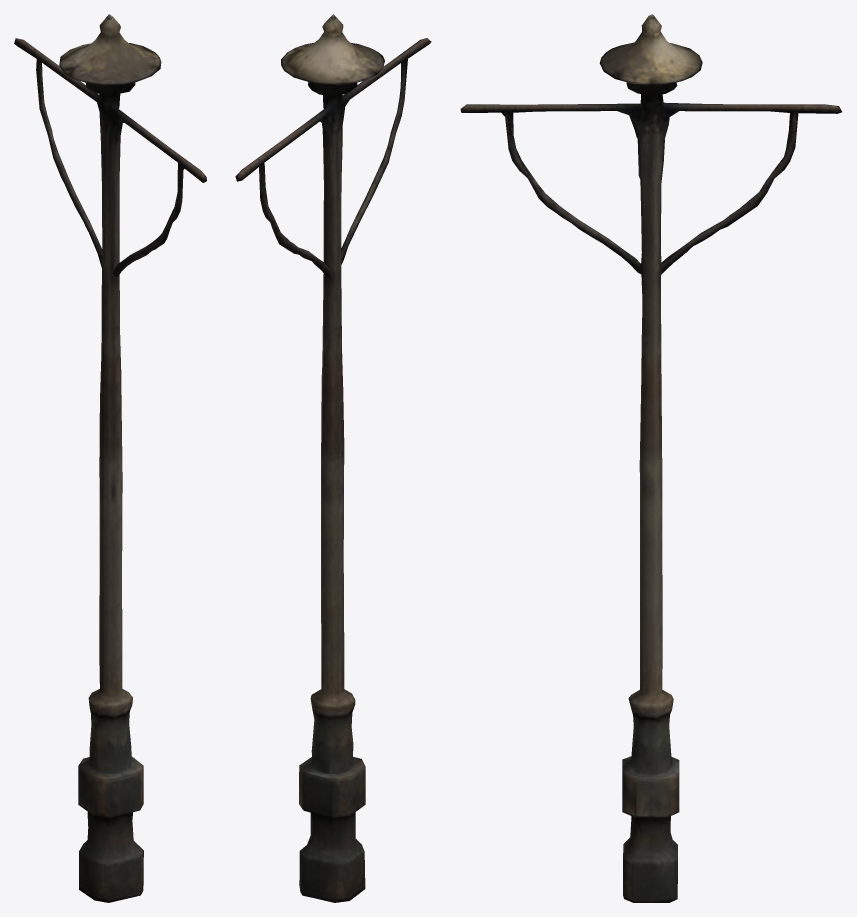
File: streetlamp.glb
3 views of the same model, side by side, from view 1: azimuth 30°, elevation 25°; view 2: azimuth 150°, elevation 25°; view 3: azimuth 270°, elevation 25° (orthographic).
Visible parts, largest first — view 1: streetlamp; view 2: streetlamp; view 3: streetlamp.
Boxes of the visible parts, x1,y1,x2,y2 form: streetlamp: [14, 14, 206, 902]; streetlamp: [235, 14, 431, 902]; streetlamp: [460, 14, 841, 902].
Bounding box in the file's own units: 0.1074 × 0.9977 × 0.3938.
Materials: 1 (1 with a texture image).
